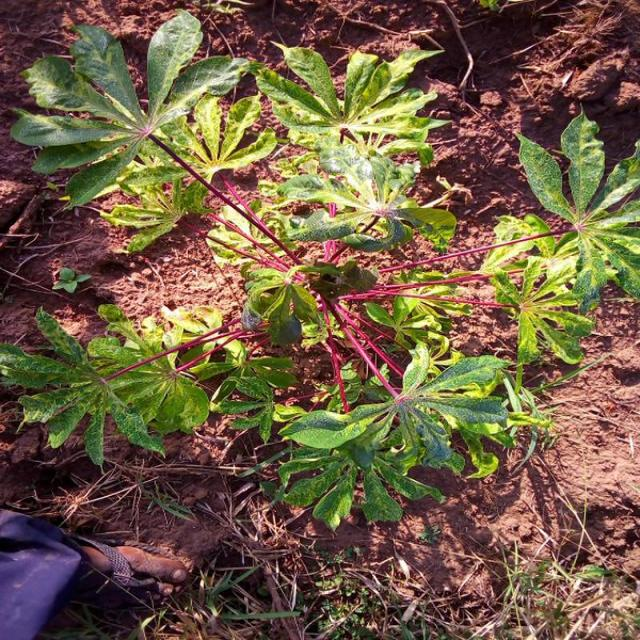cassava leaf: (5, 8, 637, 530)
